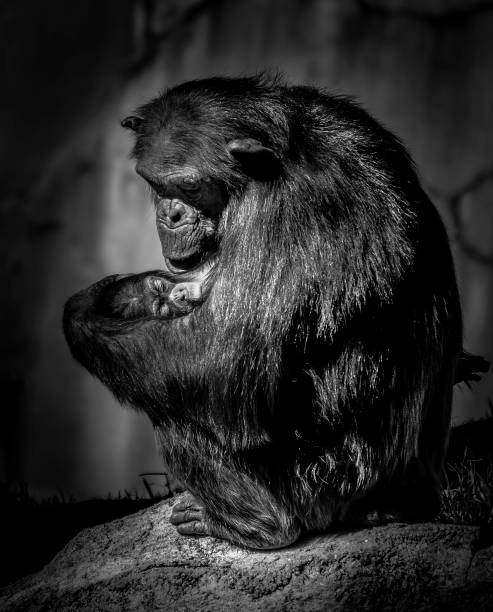chimpanzee: (91, 79, 277, 295)
